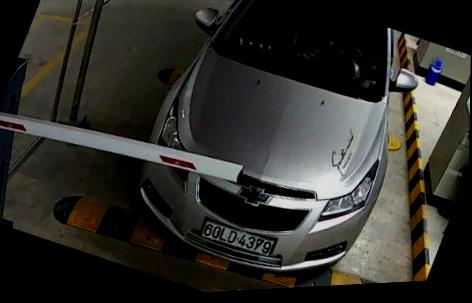License_Plate: (198, 206, 281, 266)
